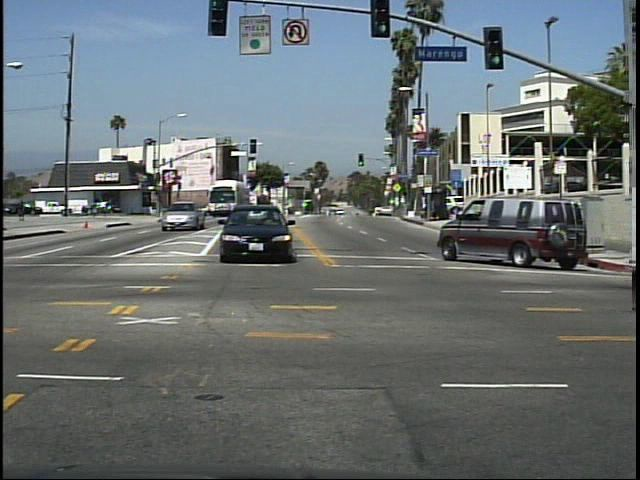person: (15, 196, 31, 225)
